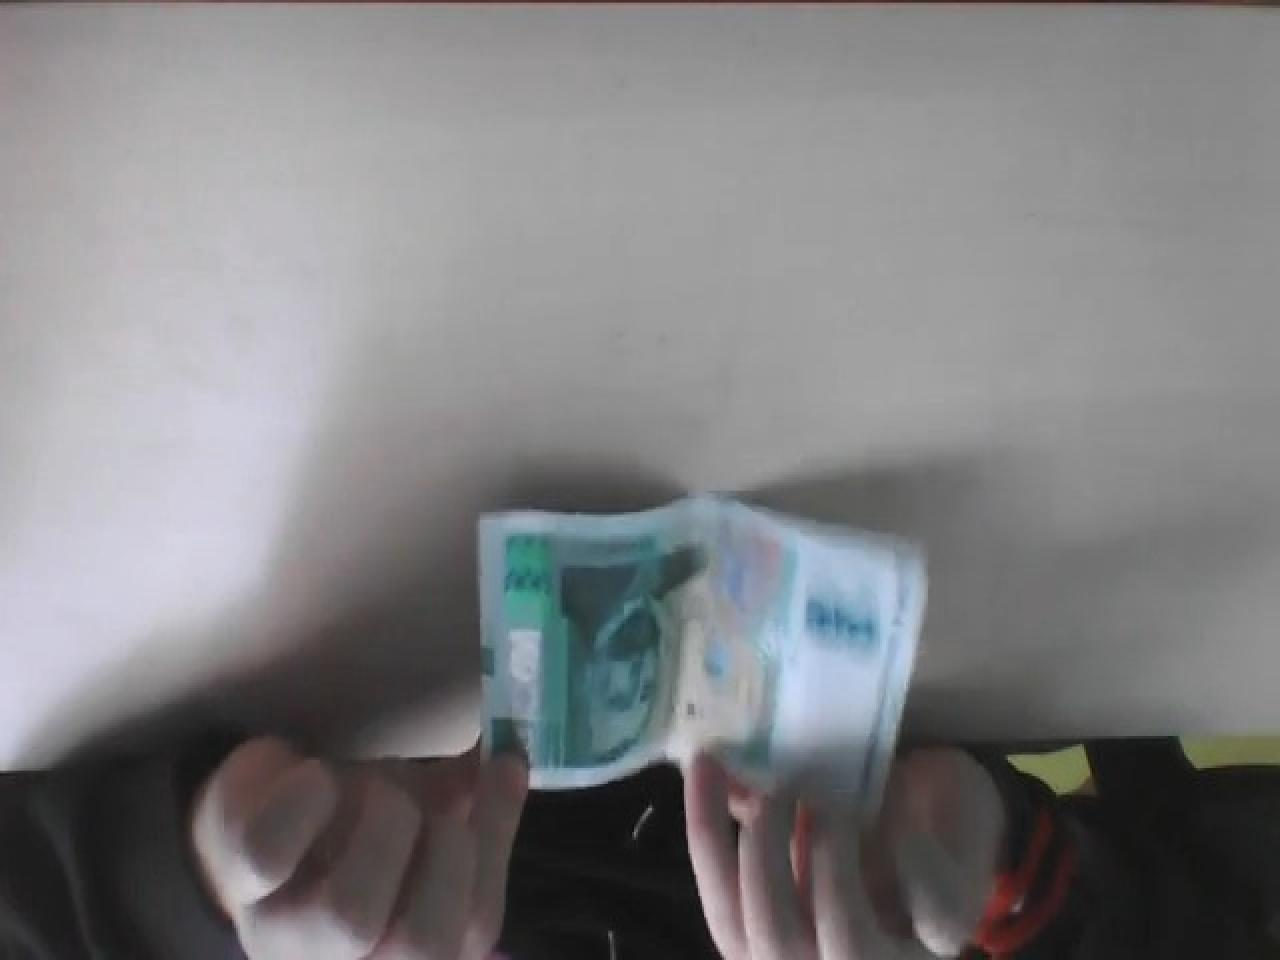100leva: (474, 491, 1200, 960)
